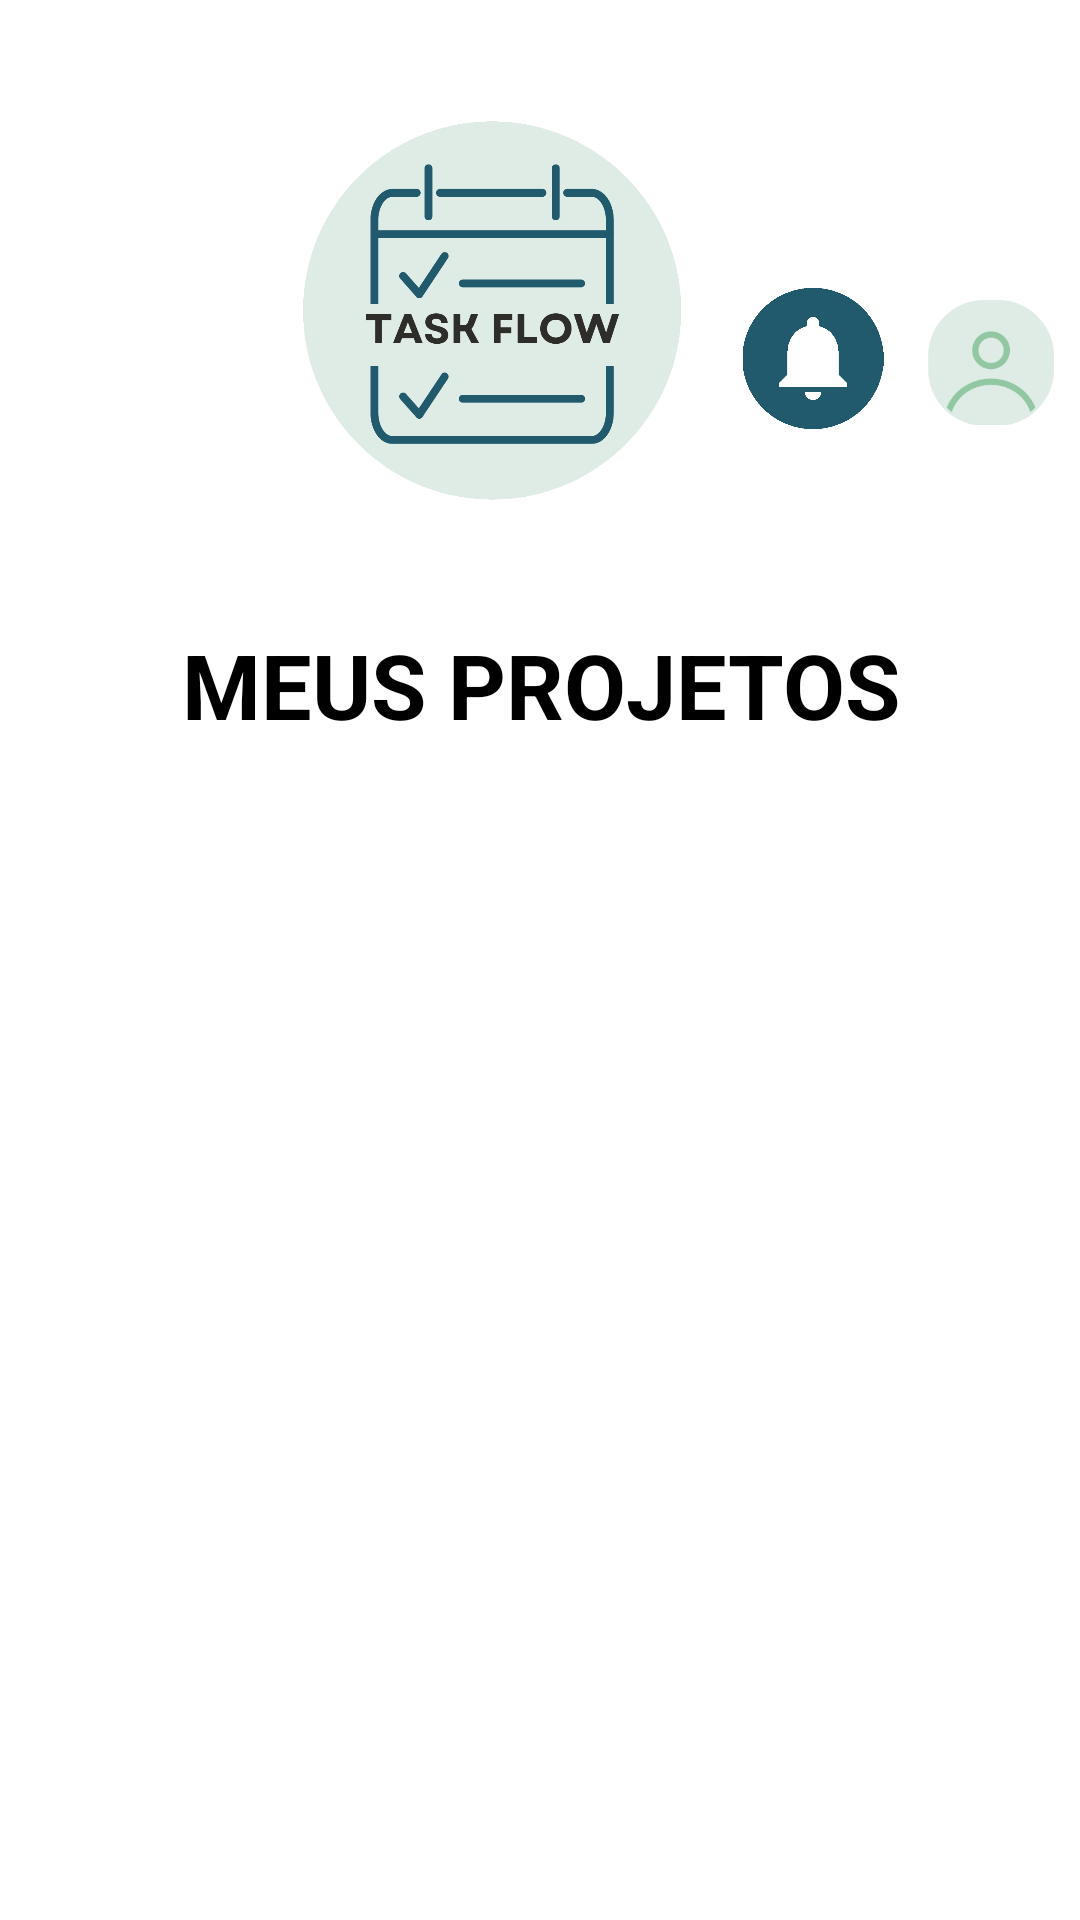

Icons on this 1080×1920 Android screen, each with its box as (x1, y1, x2, y2):
notificationbllue: (743, 288, 884, 429)
usertype: (928, 300, 1054, 425)
